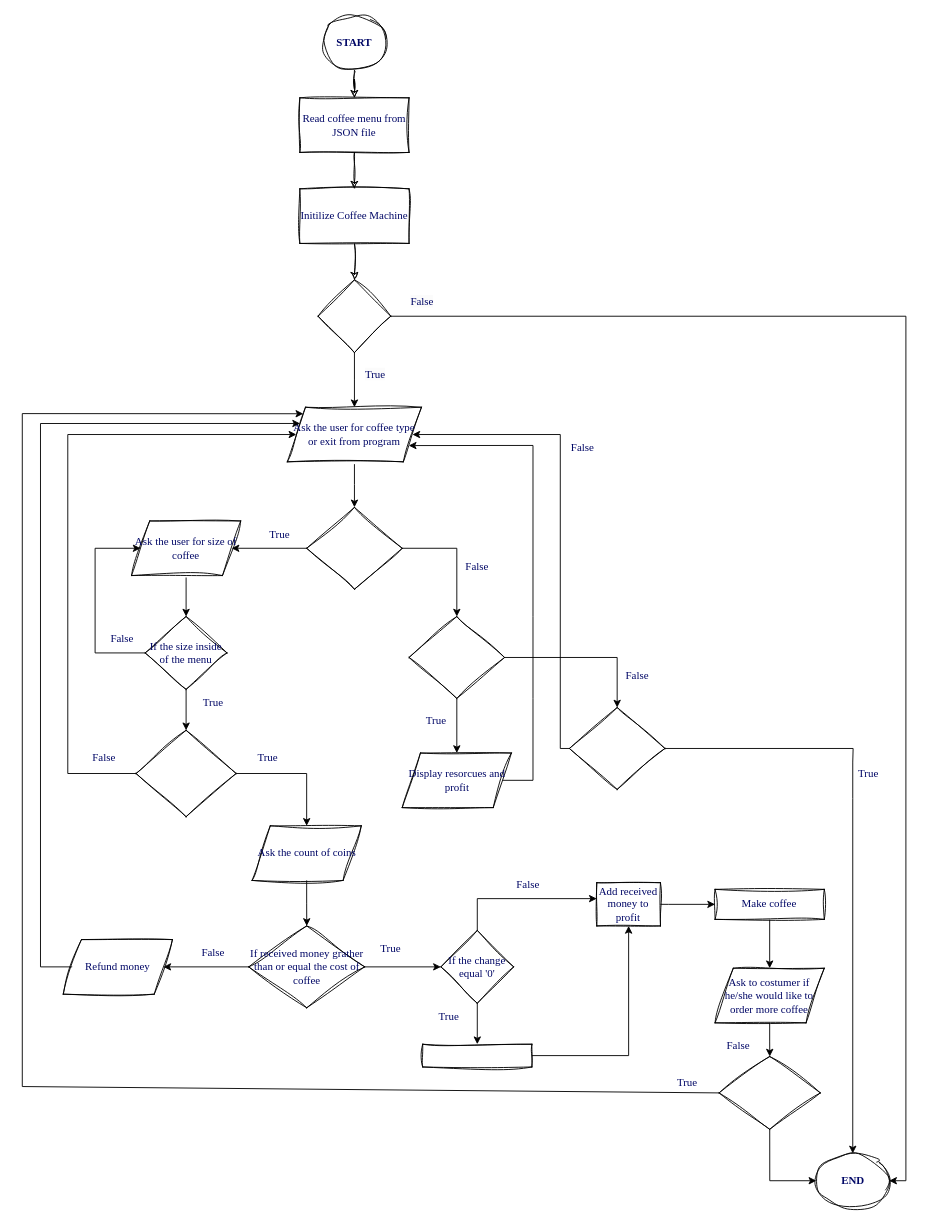
Some shapes in this 929 by 1224 pixel diagram are drawn without their labels. Each missing label, with the box of its shape:
Give change: (422, 1043, 532, 1067)
If she/he wants to order more coffee: (718, 1056, 820, 1129)
If the Machine On?: (317, 279, 391, 353)
If the request equal to 'exist': (568, 707, 665, 789)
If the request equal to 'report': (408, 616, 505, 698)
If the request inside of the menu: (306, 506, 402, 589)
If there are sufficient resources to make coffee: (135, 729, 236, 817)
